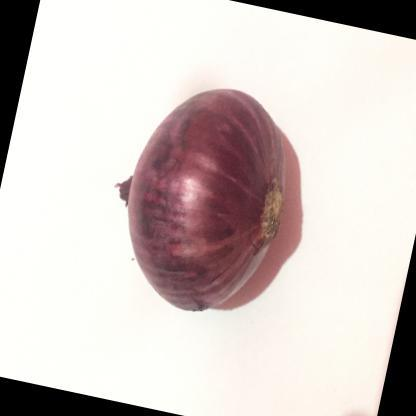onion: (78, 47, 334, 355)
